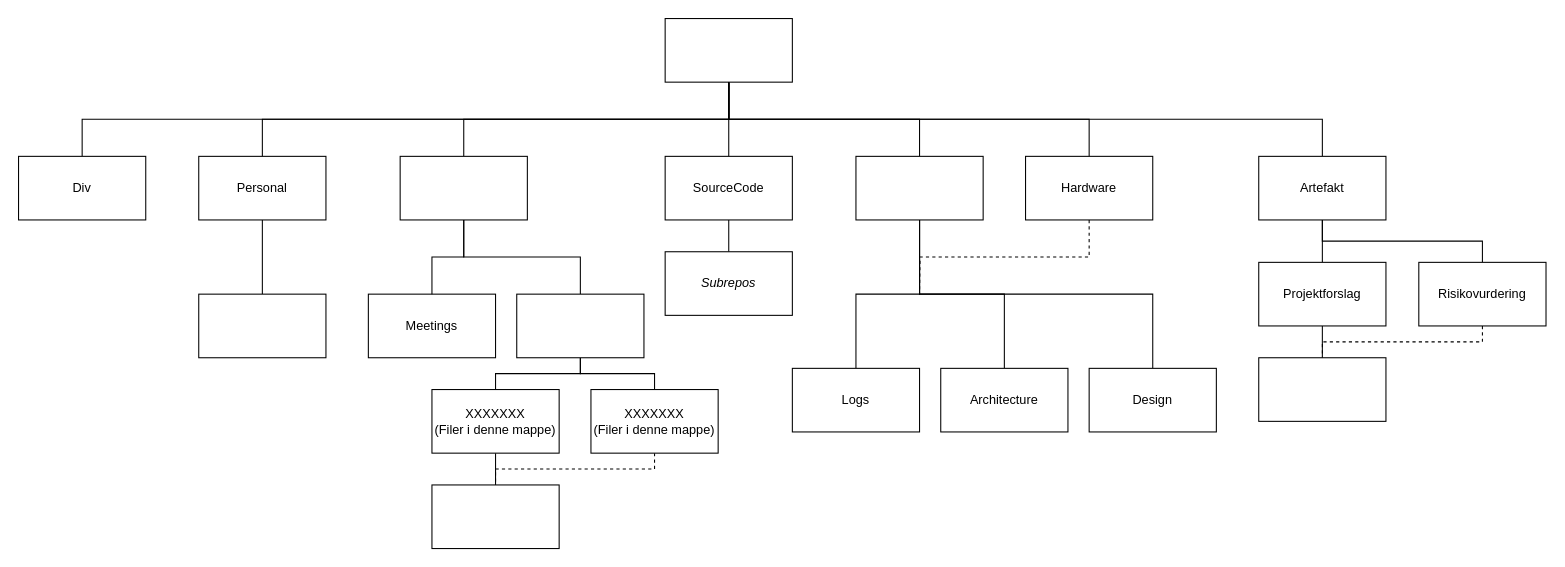
The diagram is 1565 pixels wide and 567 high, and some of its shapes have lost their labels. The shapes that lost their labels are listed below. From the top down, each one's centre as x and y in pixels, then its label:
At (x=728, y=49): "PRJ3_REPO".
At (x=463, y=187): "Process".
At (x=919, y=187): "Software".
At (x=262, y=325): "Birk, Rud...".
At (x=580, y=325): "Handins".
At (x=1322, y=389): "Figs".
At (x=495, y=516): "Review".
